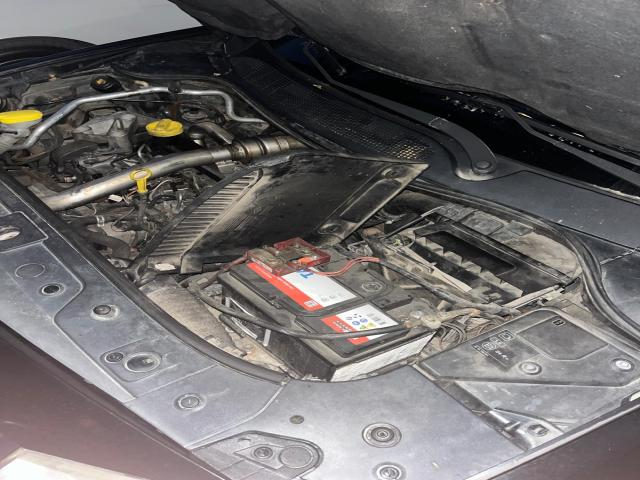accumulator: (217, 238, 437, 382)
antifreeze_tank: (22, 74, 125, 109)
fuse_box: (417, 308, 638, 449)
high_pressure_pump: (75, 155, 138, 176)
